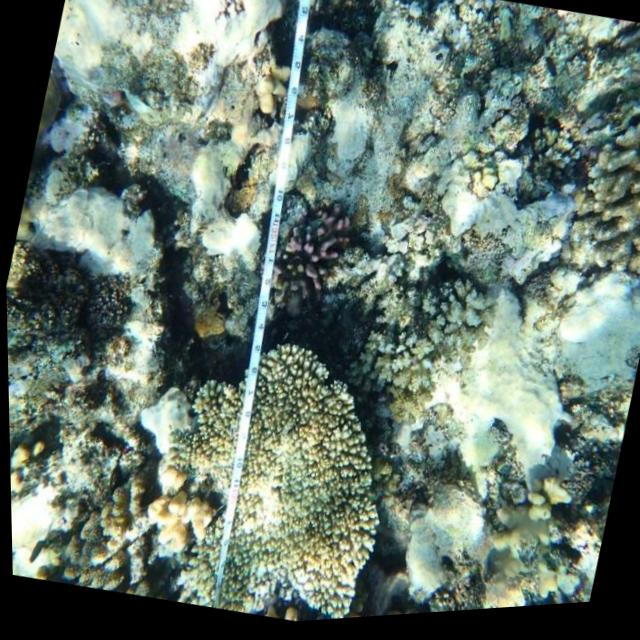Bleached Coral: (414, 278, 592, 483), (391, 136, 618, 296), (8, 164, 195, 299), (526, 247, 640, 443), (151, 0, 305, 115), (231, 413, 324, 562), (187, 193, 295, 306), (126, 369, 217, 482)
